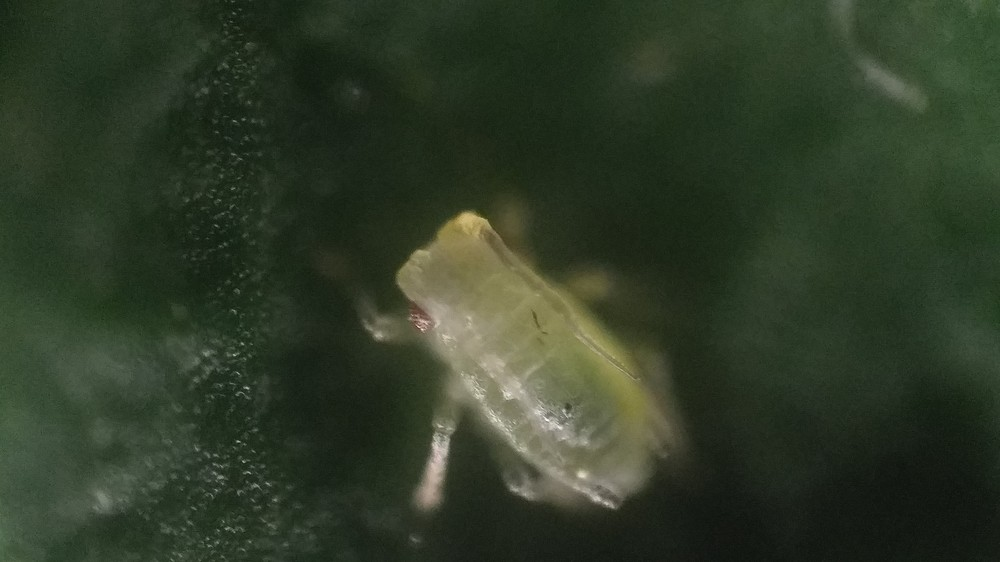Pulgon: (328, 191, 740, 537)
